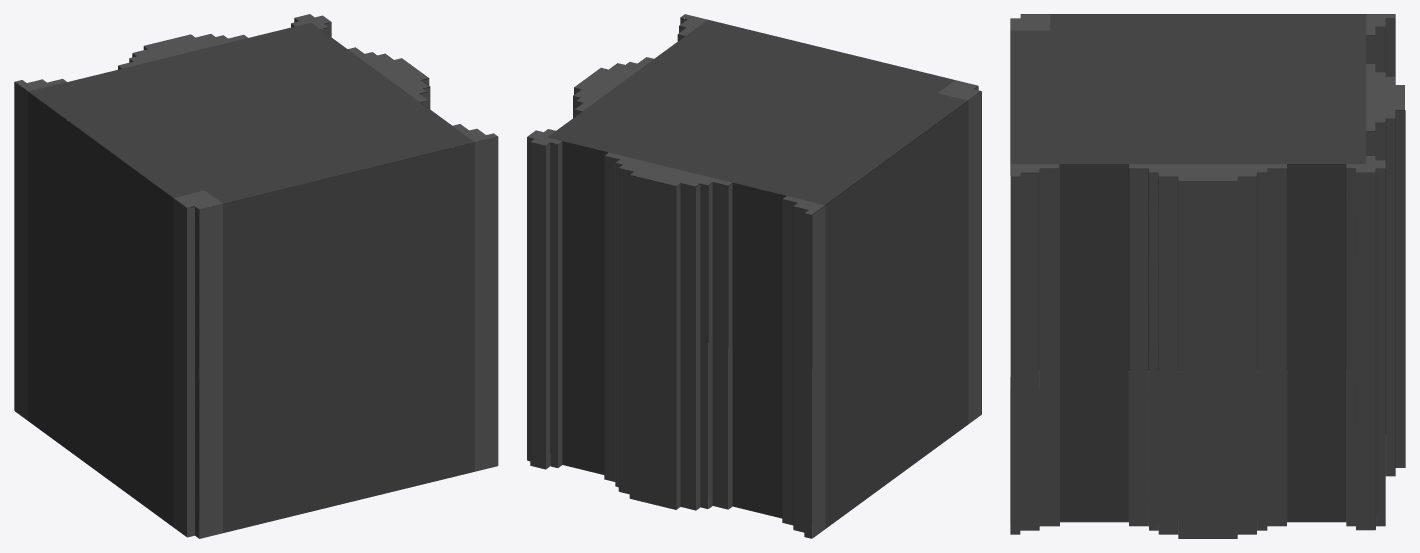
Rendered from CastleWallCorner.fbx.
3 renders of one model, left to right at view 1: azimuth 30°, elevation 25°; view 2: azimuth 150°, elevation 25°; view 3: azimuth 270°, elevation 25°, orthographic. The views are drawn at different scales.
Visible parts, largest first — view 1: Castle wall corner; view 2: Castle wall corner; view 3: Castle wall corner.
Boxes of the visible parts, x1=… form: Castle wall corner: x1=14, y1=14, x2=498, y2=538; Castle wall corner: x1=527, y1=14, x2=981, y2=538; Castle wall corner: x1=1010, y1=14, x2=1405, y2=538.
Size of the model in its own units: 400 by 400 by 400.
